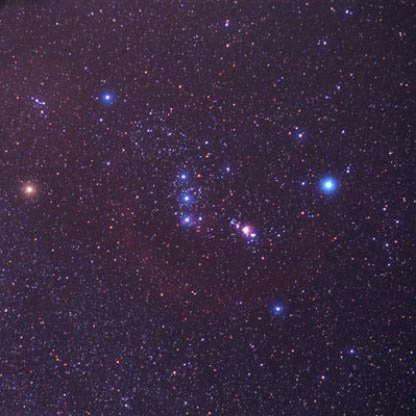Orion: (315, 168, 341, 202), (265, 296, 288, 323), (18, 173, 38, 202), (95, 87, 121, 109), (176, 190, 198, 209), (179, 215, 199, 235), (174, 165, 190, 184)
